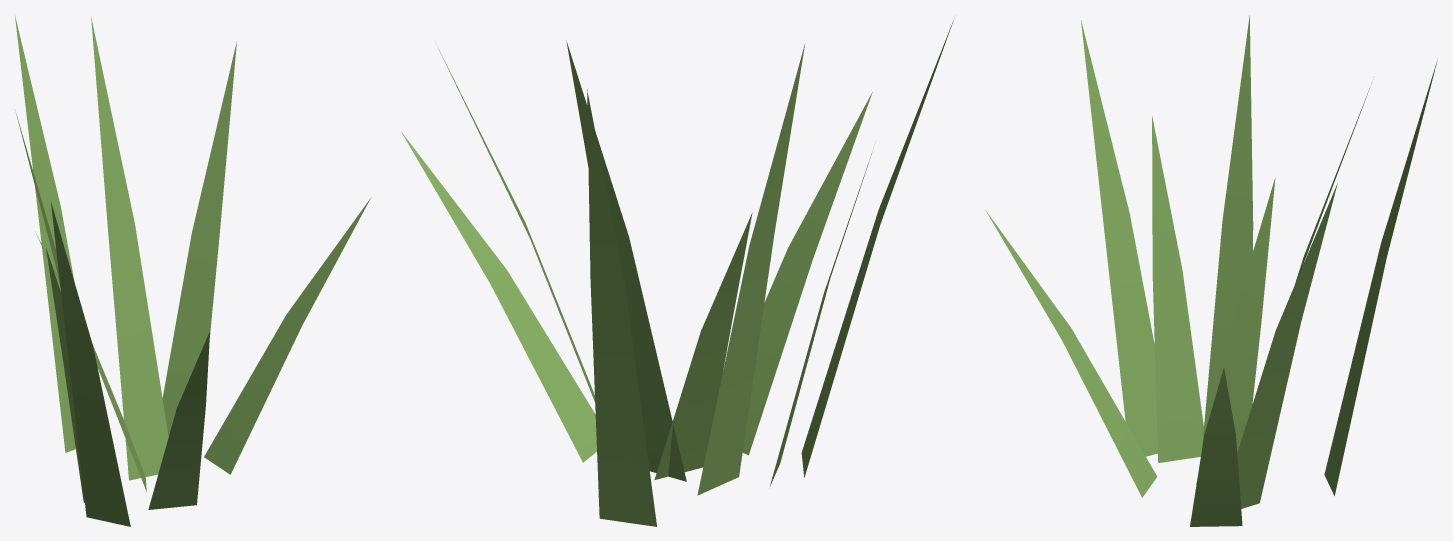
File: grass_clump.glb
The picture shows the model from 3 angles, left to right: view 1: azimuth 30°, elevation 25°; view 2: azimuth 150°, elevation 25°; view 3: azimuth 270°, elevation 25°; orthographic projection. The views are drawn at different scales.
Visible parts, largest first — view 1: grass_clump; view 2: grass_clump; view 3: grass_clump.
Part boxes in pixels (left/top/right/bottom): grass_clump: left=14, top=14, right=370, bottom=526; grass_clump: left=401, top=18, right=954, bottom=526; grass_clump: left=985, top=15, right=1437, bottom=526.
Bounding box in the file's own units: 0.8092 × 0.808 × 0.7755.
